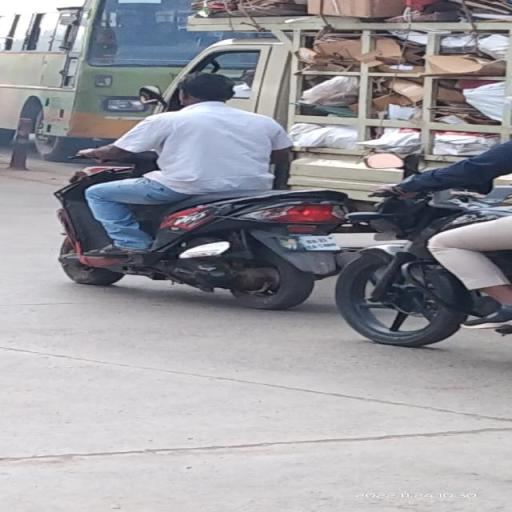bike: (50, 73, 337, 310)
withouthelmet: (179, 76, 233, 104)
